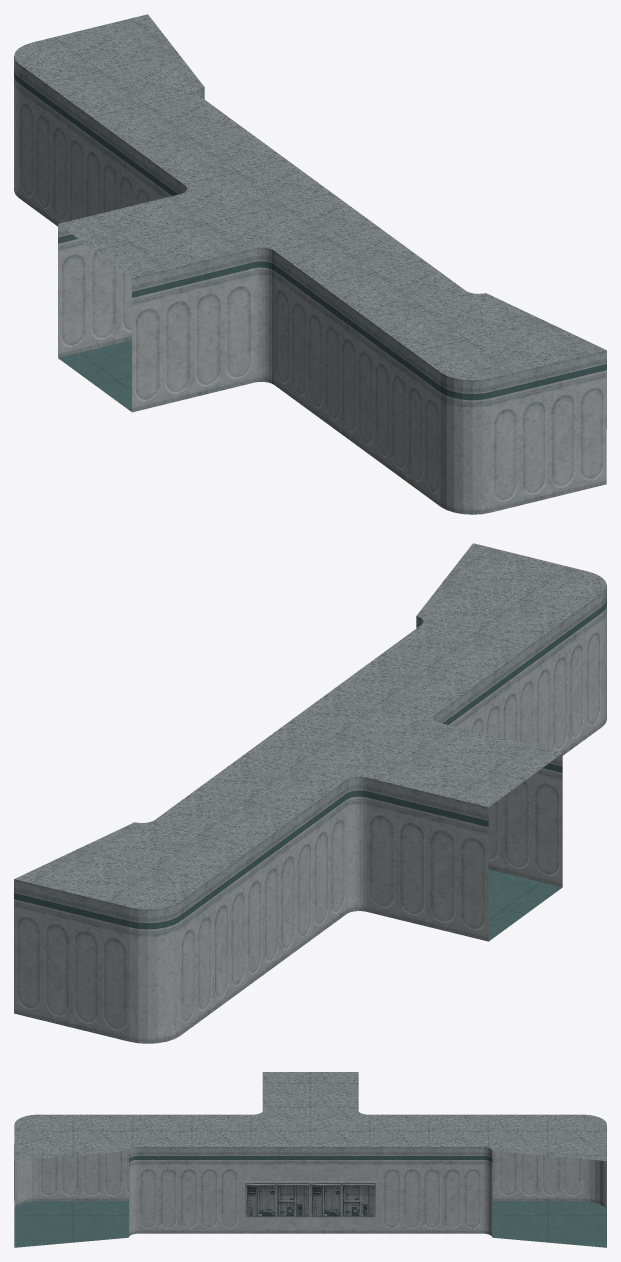
The model's file is mun_corl_hospital_s01_r11_entrye_mesh_r11.fbx.
The picture shows the model from 3 angles, top to bottom: view 1: azimuth 30°, elevation 25°; view 2: azimuth 150°, elevation 25°; view 3: azimuth 270°, elevation 25°; orthographic projection. The views are drawn at different scales.
Parts seen in each view (by area): view 1: mesh_node; view 2: mesh_node; view 3: mesh_node.
Boxes of the visible parts, x1,y1,x2,y2 form: mesh_node: (14,14,606,514); mesh_node: (14,543,606,1043); mesh_node: (14,1072,606,1247).
Bounding box in the file's own units: 11 × 5 × 30.98.
